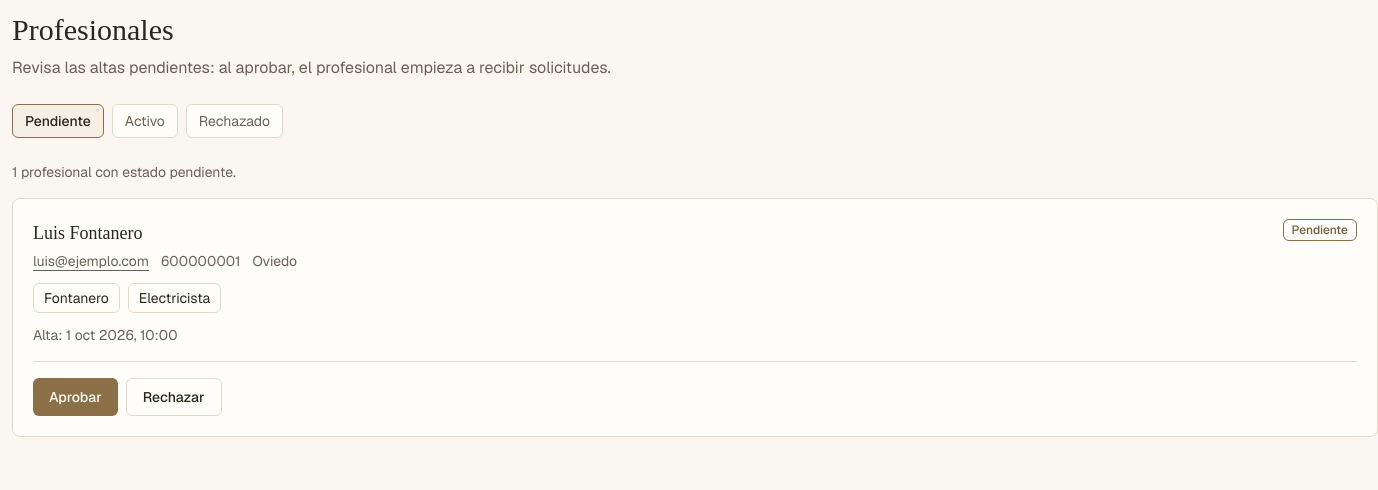
it: PanelProfesionales › si_el_patch_falla_la_fila_vuelve_a_pendiente_y_muestra_el_error
Expected: the heading "Luis Fontanero" is shown, [33,223,142,243]
Click the button "Rechazar". click: (174, 397)
box: [126,378,222,416]
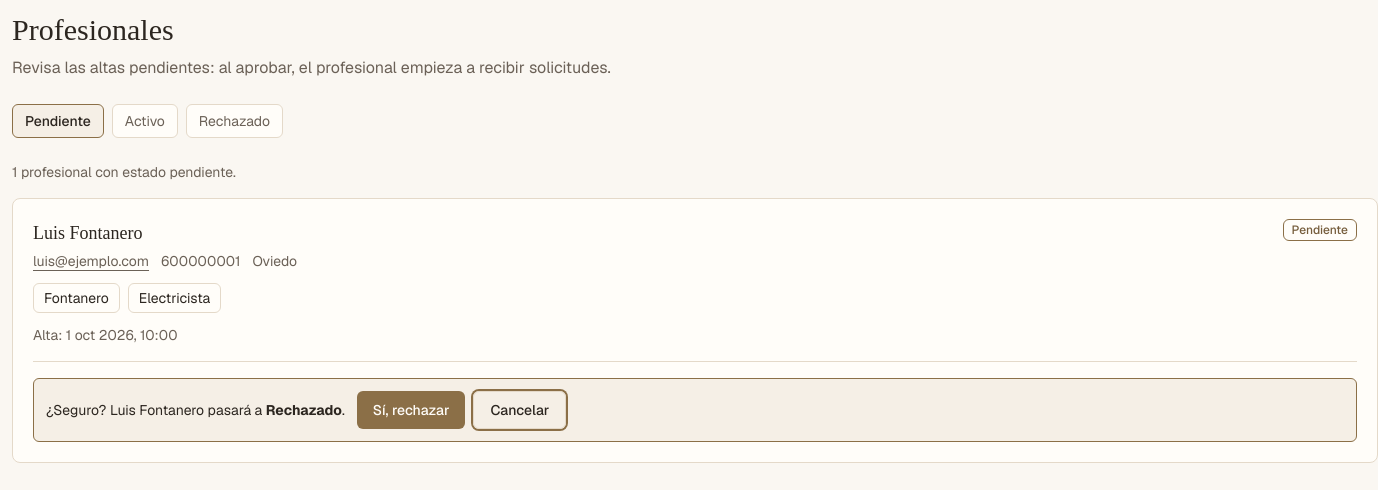
Click the button "Sí, rechazar". click: (411, 410)
box: [357,391,465,429]
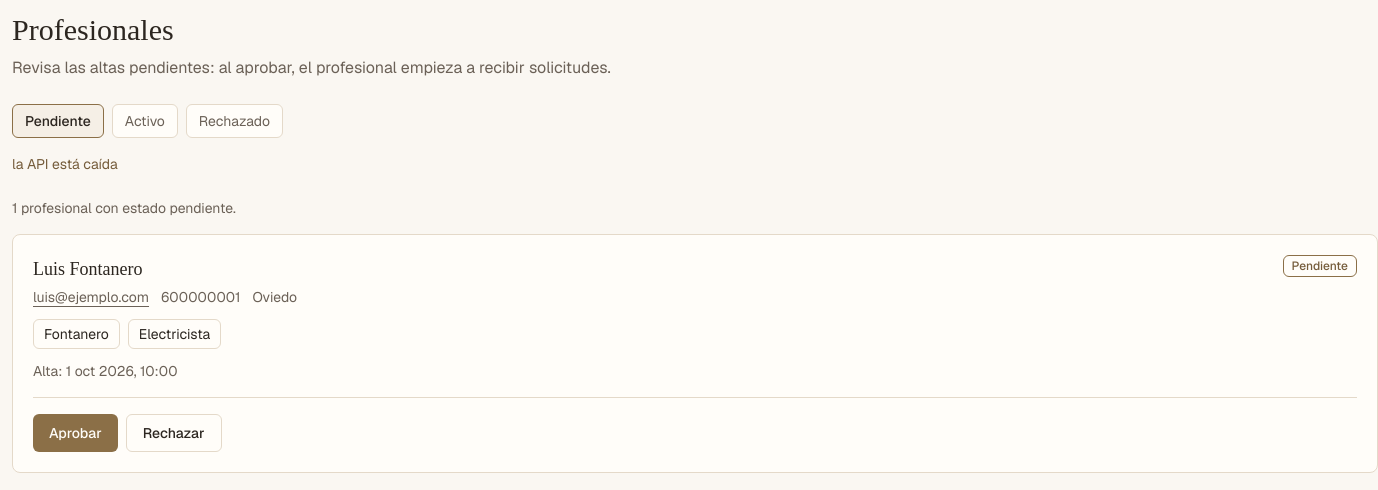
Expected: the text "Pendiente" is shown, [1283,255,1357,277]
Now the message reads "la API está caída", box [12,155,118,173]
